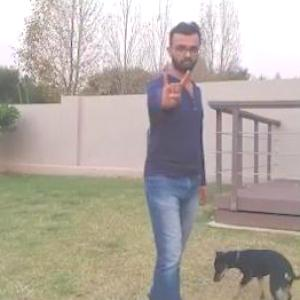takeoff-hand: (157, 63, 195, 113)
